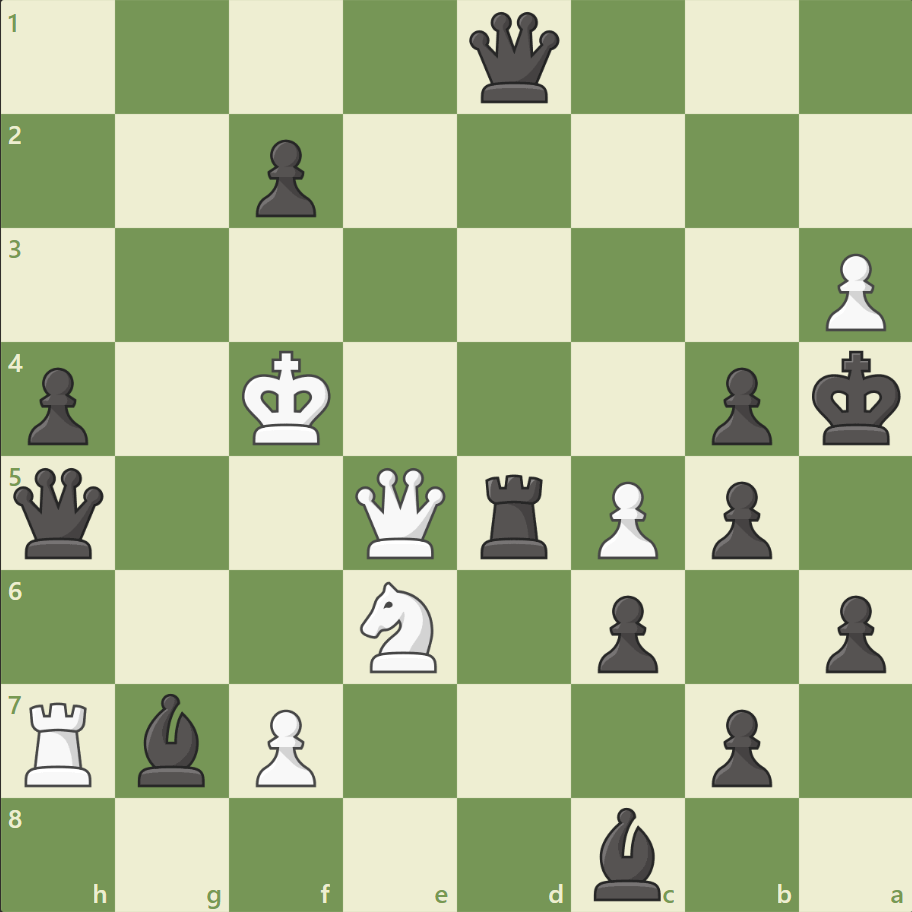K: (238, 344, 338, 452)
N: (351, 575, 449, 677)
P: (247, 700, 322, 791), (588, 473, 662, 564), (815, 246, 889, 337)
Q: (351, 463, 450, 562)
R: (19, 693, 102, 790)
b: (585, 801, 669, 904), (131, 687, 215, 790)
k: (806, 344, 906, 452)
p: (701, 700, 776, 791), (701, 473, 776, 564), (701, 359, 776, 450), (20, 359, 95, 450), (247, 132, 322, 223), (815, 586, 889, 677), (588, 586, 662, 677)
q: (10, 463, 109, 562), (464, 9, 563, 108)
r: (473, 466, 556, 563)
